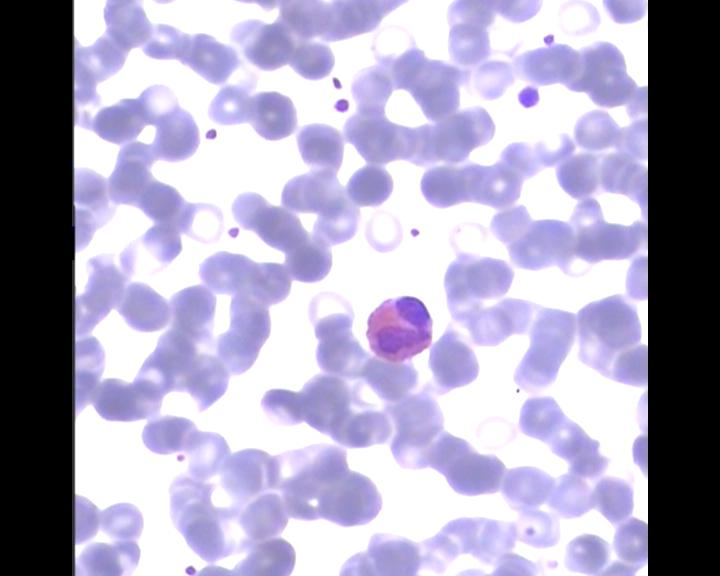eosi: (360, 292, 436, 362)
